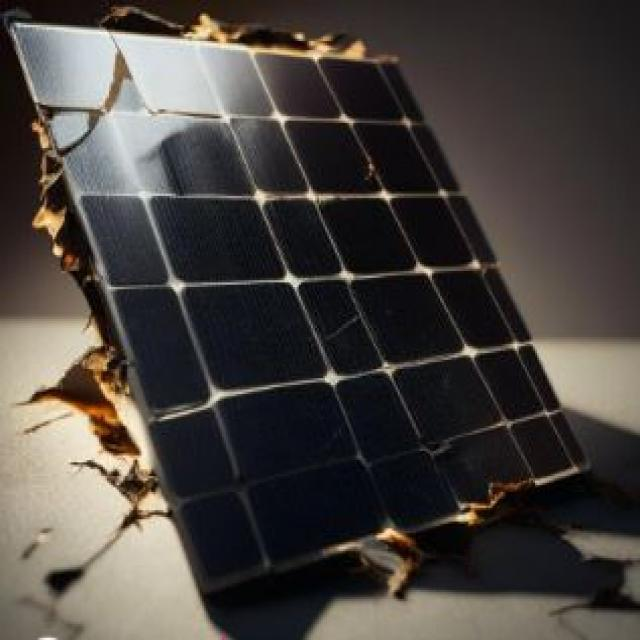faulty: (3, 24, 601, 604)
